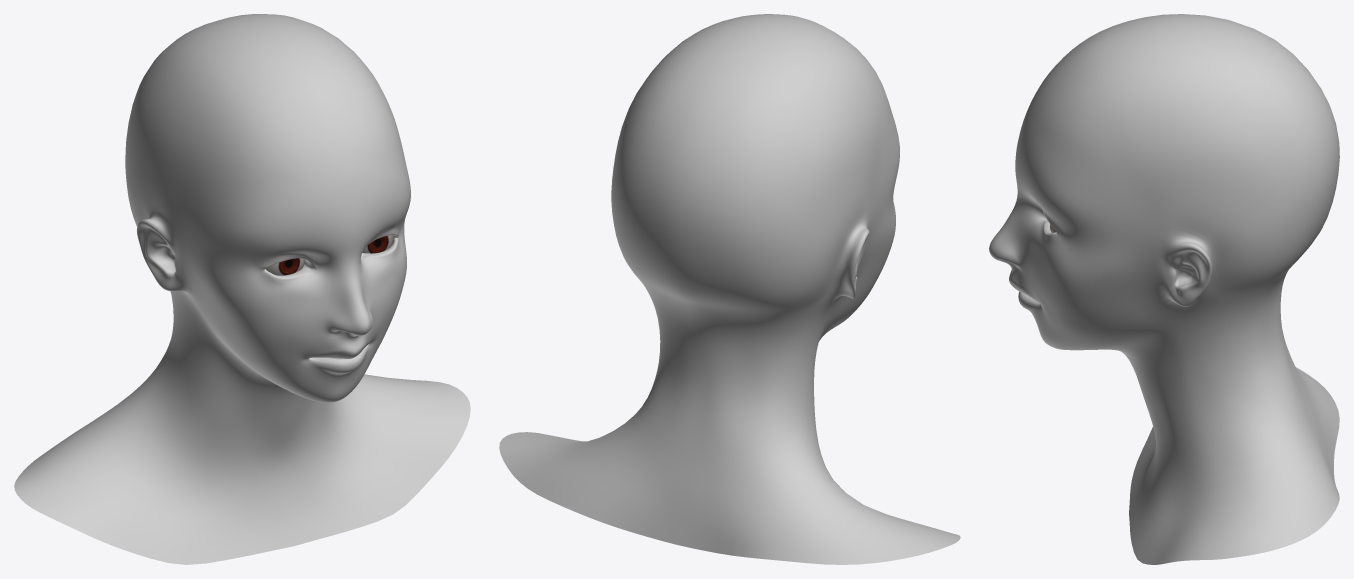
The picture shows the model from 3 angles, left to right: view 1: azimuth 30°, elevation 25°; view 2: azimuth 150°, elevation 25°; view 3: azimuth 270°, elevation 25°; orthographic projection. The views are drawn at different scales.
Parts seen in each view (by area): view 1: Objectn_2, high-polyMesh.002_0; view 2: Objectn_2; view 3: Objectn_2.
Boxes of the visible parts, x1=… form: Objectn_2: x1=14, y1=14, x2=470, y2=564; high-polyMesh.002_0: x1=265, y1=235, x2=393, y2=275; Objectn_2: x1=499, y1=14, x2=960, y2=564; Objectn_2: x1=989, y1=14, x2=1339, y2=564.
Size of what is drawn, in the model's own units: 3.07 by 3.3 by 2.16.
